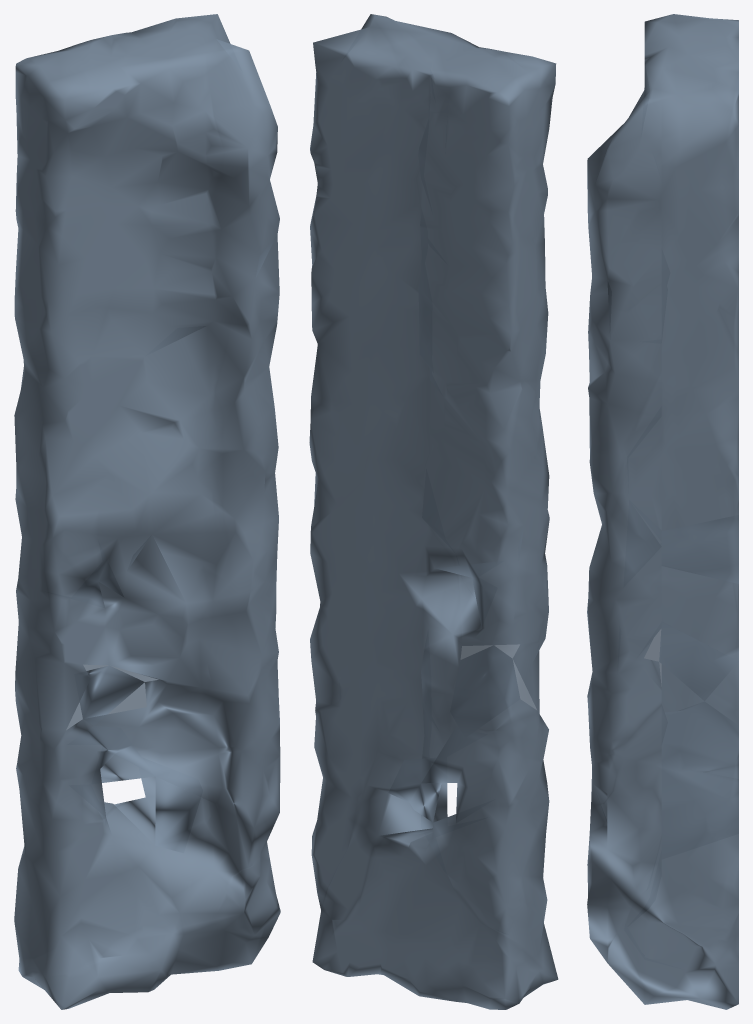
The model's file is sofa_0490_original.obj.
3 views of the same model, side by side, from view 1: azimuth 30°, elevation 25°; view 2: azimuth 150°, elevation 25°; view 3: azimuth 270°, elevation 25° (orthographic). The views are drawn at different scales.
Bounding box in the file's own units: 0.4358 × 1.92 × 0.2916.
